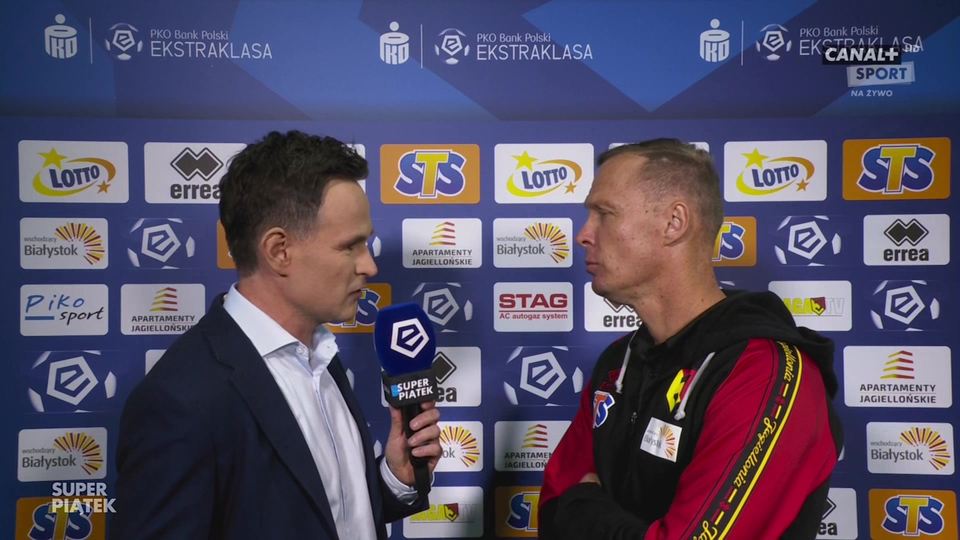pko: (42, 14, 79, 59), (377, 21, 414, 66), (696, 18, 732, 63)
